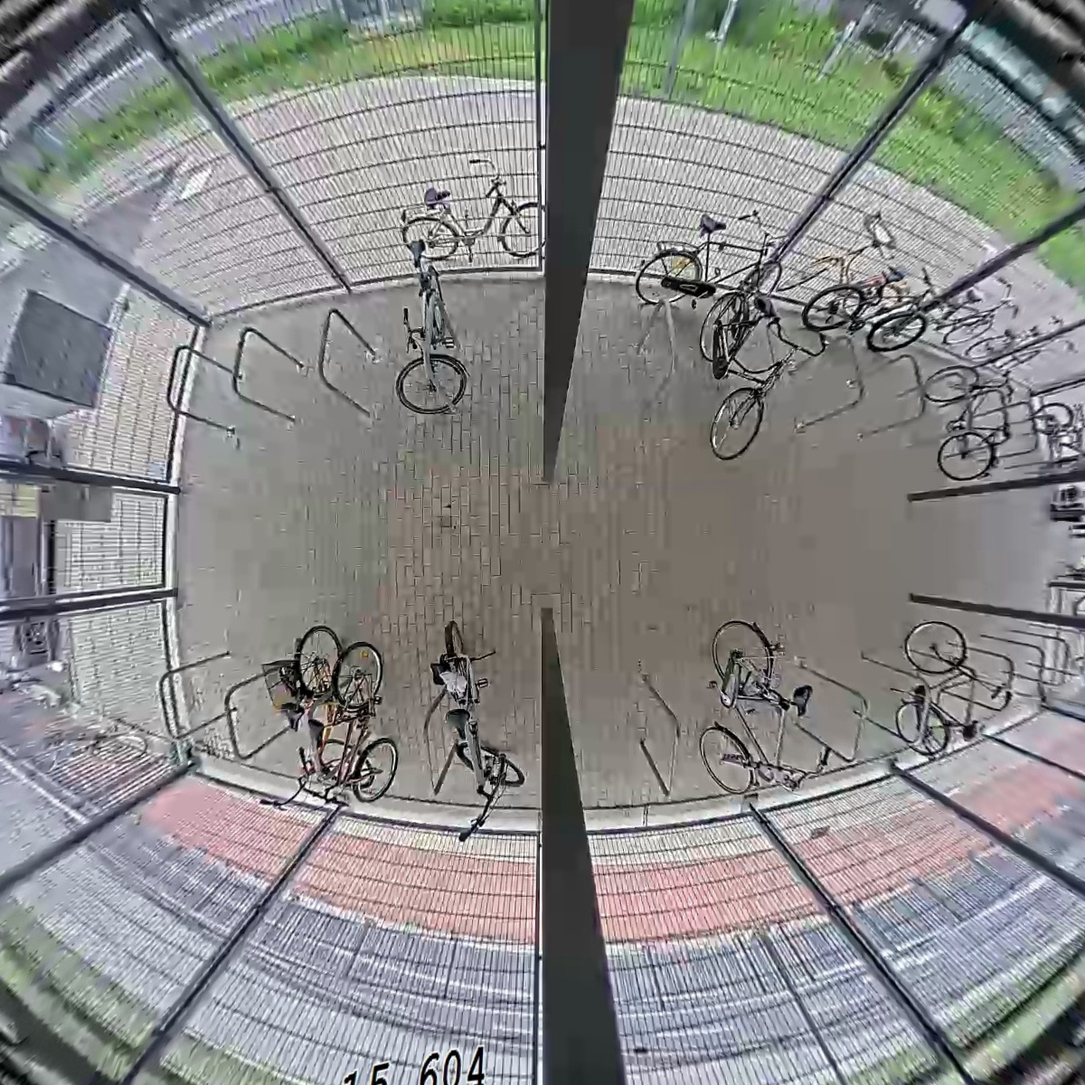bicylce: (413, 619, 525, 847), (693, 288, 829, 467), (697, 618, 823, 806), (256, 617, 377, 810), (888, 609, 1022, 763), (632, 200, 793, 326), (298, 637, 398, 823), (800, 260, 947, 370), (389, 235, 473, 416), (916, 355, 1022, 483)
saddle: (437, 706, 484, 745), (784, 678, 817, 719), (269, 698, 305, 734), (748, 287, 783, 324), (695, 204, 728, 240), (301, 713, 329, 753), (401, 235, 432, 268), (872, 263, 914, 287), (962, 713, 984, 749), (991, 416, 1016, 443)
